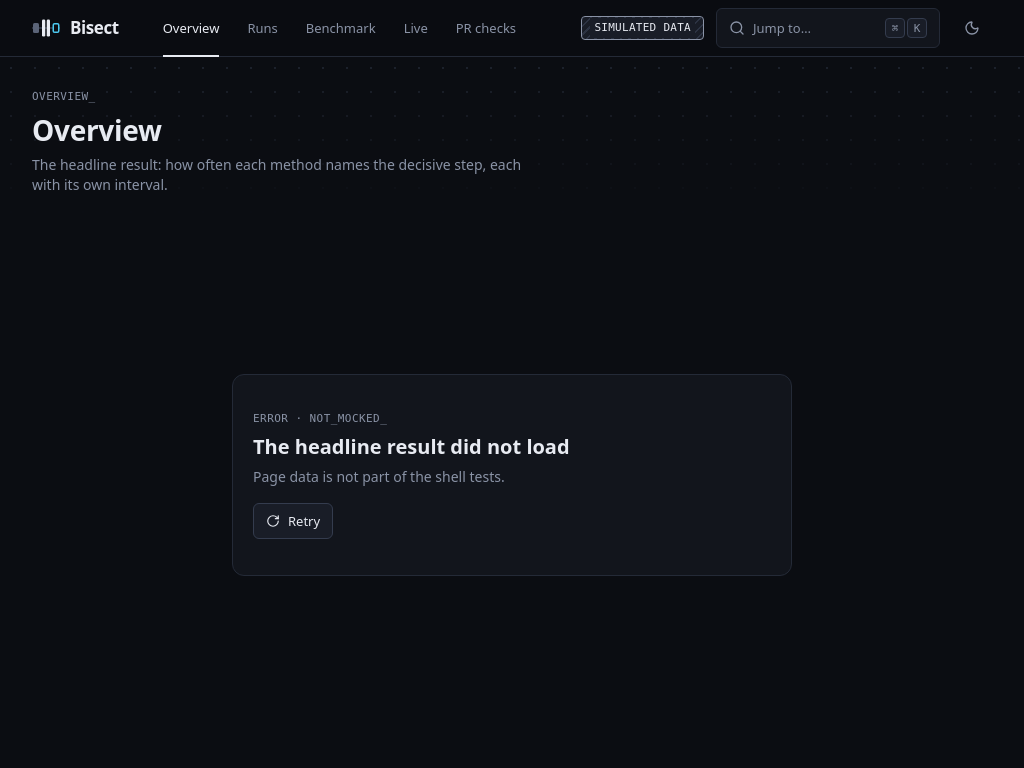
AppShell › the theme toggle button names the theme it switches to
Step 1. Click the button named "Switch to light theme" → {"x": 972, "y": 28}, box x1=952 y1=8 x2=992 y2=48
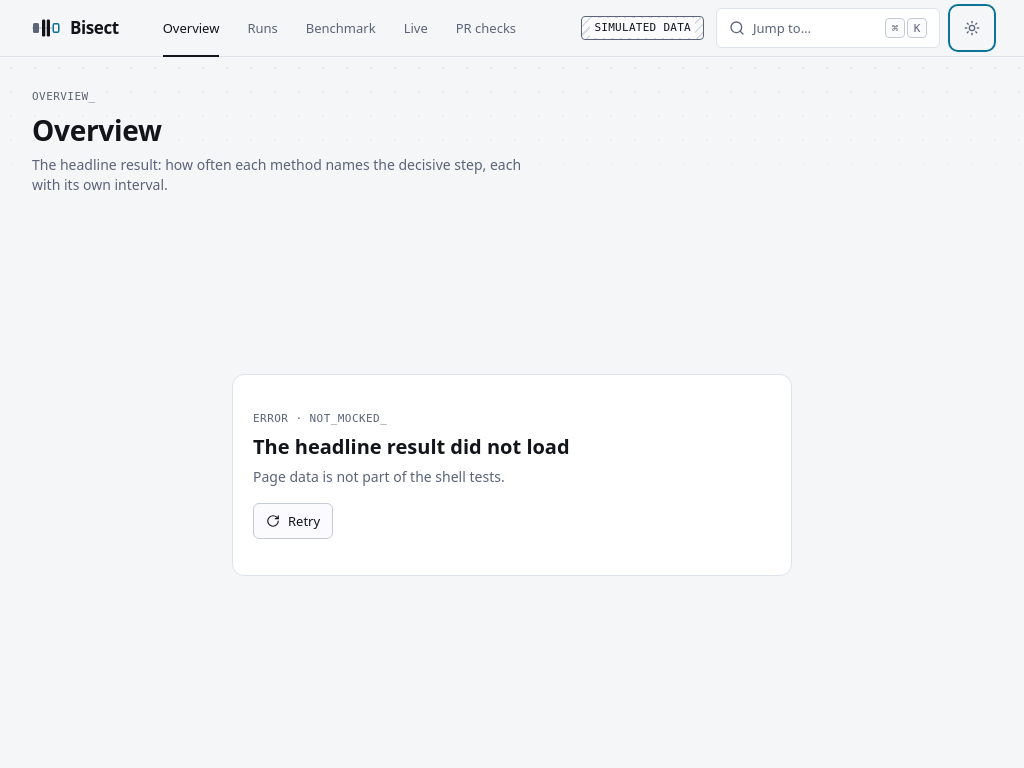
Now the button named "Switch to dark theme" is shown, box x1=952 y1=8 x2=992 y2=48
